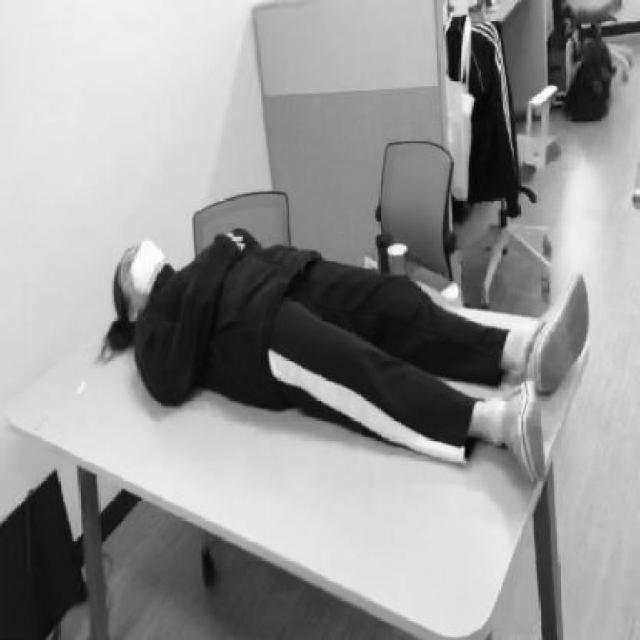person: (104, 218, 593, 500)
